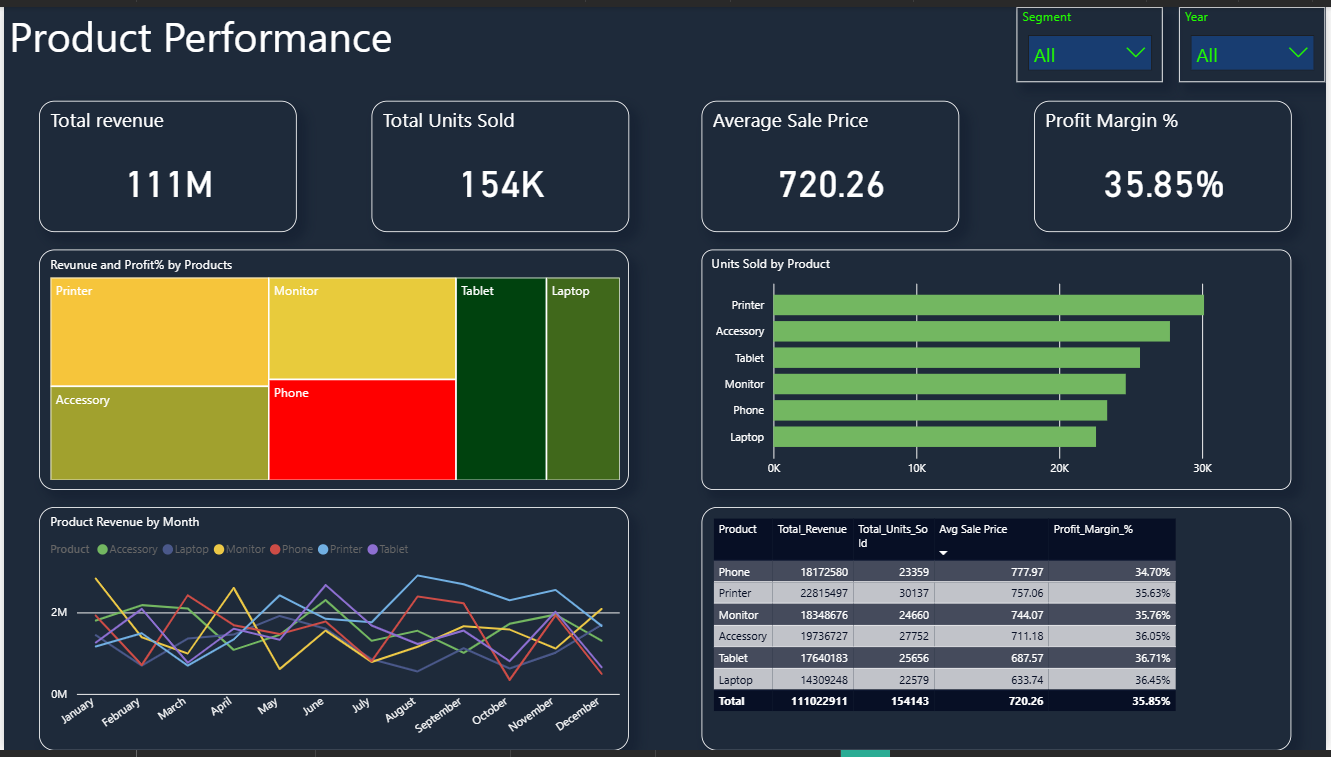

This screenshot's page, from the dashboard's own definition file:
{"tool":"powerbi","page":{"name":"Product Performance","canvas":[1280,720],"ordinal":1},"visuals":[{"type":"slicer","title":"Year","fields":{"Values":["Dim_Date.Year"]},"box":[1138.4,0,141.6,72.6],"z":0},{"type":"card","title":"Total revenue","fields":{"Values":["_Measures.Total_Revenue"]},"box":[33.9,90.8,249.4,127.1],"z":0,"group":"g1"},{"type":"slicer","title":"Segment","fields":{"Values":["Dim_Segment.Segment"]},"box":[980.5,0,141.6,72.6],"z":1000},{"type":"card","title":"Total Units Sold","fields":{"Values":["_Measures.Total_Units_Sold"]},"box":[355.9,90.8,249.4,127.1],"z":1000,"group":"g1"},{"type":"textbox","title":"Product Performance","box":[0,0,450.3,54.5],"z":2000},{"type":"card","title":"Average Sale Price","fields":{"Values":["_Measures.Avg Sale Price"]},"box":[675.5,90.8,249.4,127.1],"z":2000,"group":"g1"},{"type":"group","id":"g1","title":"Group 1","box":[33.9,90.8,1212.9,127.1],"z":3000},{"type":"card","title":"Profit Margin %","fields":{"Values":["_Measures.Profit_Margin_%"]},"box":[997.5,90.8,249.4,127.1],"z":3000,"group":"g1"},{"type":"treemap","title":"Revunue and Profit% by Products","fields":{"Group":["Dim_Product.Product"],"Values":["_Measures.Total_Revenue"]},"box":[33.9,234.8,571.4,232.4],"z":3001,"group":"g2"},{"type":"barChart","title":"Units Sold by Product","fields":{"Category":["Dim_Product.Product"],"Y":["_Measures.Total_Units_Sold"]},"box":[675.5,234.8,571.4,232.4],"z":3002,"group":"g2"},{"type":"group","id":"g2","title":"Group 2","box":[33.9,234.8,1212.9,232.4],"z":3003},{"type":"lineChart","title":"Product Revenue by Month","fields":{"Category":["Dim_Date.Month Name"],"Y":["_Measures.Total_Revenue"],"Series":["Dim_Product.Product"]},"box":[33.9,484.2,571.4,236],"z":3004},{"type":"tableEx","fields":{"Values":["Dim_Product.Product","_Measures.Total_Revenue","_Measures.Total_Units_Sold","_Measures.Avg Sale Price","_Measures.Profit_Margin_%"]},"box":[675,484.2,571.4,236],"z":3005}]}

Visuals, with their boxes in screenshot pixels (x1, y1, x2, y2), scaled from the page's 1280x720 canvas onto the 1331x757 screenshot:
"Year" slicer: box=[1184, 0, 1330, 76]
"Total revenue" card: box=[35, 95, 295, 229]
"Segment" slicer: box=[1020, 0, 1167, 76]
"Total Units Sold" card: box=[370, 95, 629, 229]
"Product Performance" textbox: box=[0, 0, 468, 57]
"Average Sale Price" card: box=[702, 95, 962, 229]
"Group 1" group: box=[35, 95, 1296, 229]
"Profit Margin %" card: box=[1037, 95, 1297, 229]
"Revunue and Profit% by Products" treemap: box=[35, 247, 629, 491]
"Units Sold by Product" barChart: box=[702, 247, 1297, 491]
"Group 2" group: box=[35, 247, 1296, 491]
"Product Revenue by Month" lineChart: box=[35, 509, 629, 756]
tableEx - Dim_Product.Product x _Measures.Total_Revenue: box=[702, 509, 1296, 756]
